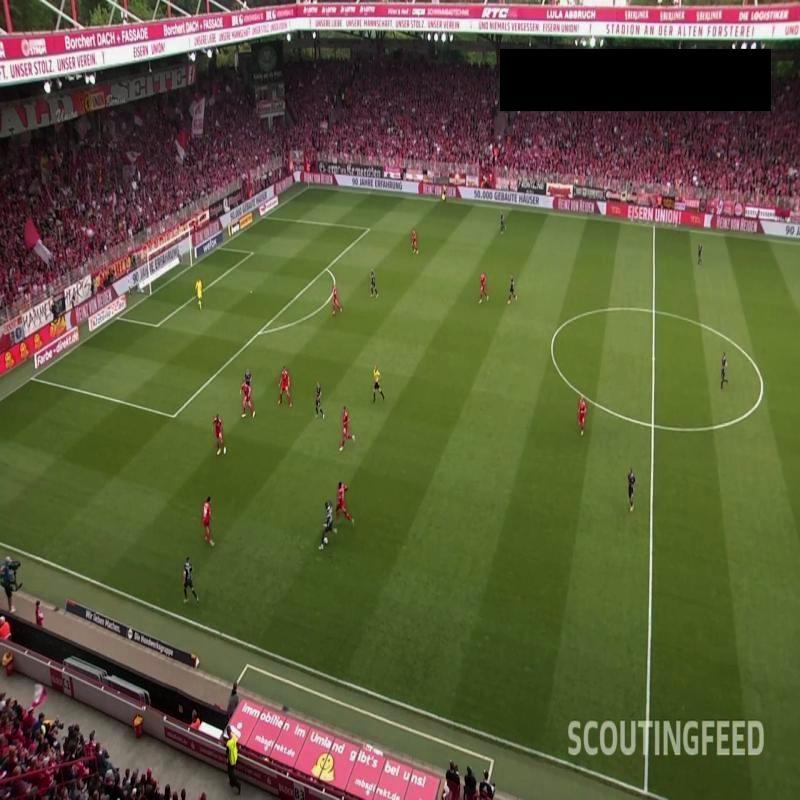1: (302, 181, 316, 195)
10: (320, 260, 334, 274)
11: (252, 326, 266, 340)
12: (167, 410, 181, 424)
13: (647, 218, 661, 232)
14: (646, 304, 662, 320)
15: (644, 416, 660, 432)
16: (634, 782, 656, 800)
2: (256, 210, 270, 224)
3: (212, 240, 226, 253)
4: (111, 312, 125, 326)
5: (24, 372, 38, 386)
7: (246, 247, 260, 260)
8: (150, 318, 164, 332)
9: (362, 222, 376, 236)
c: (752, 375, 770, 396), (546, 336, 560, 350)
